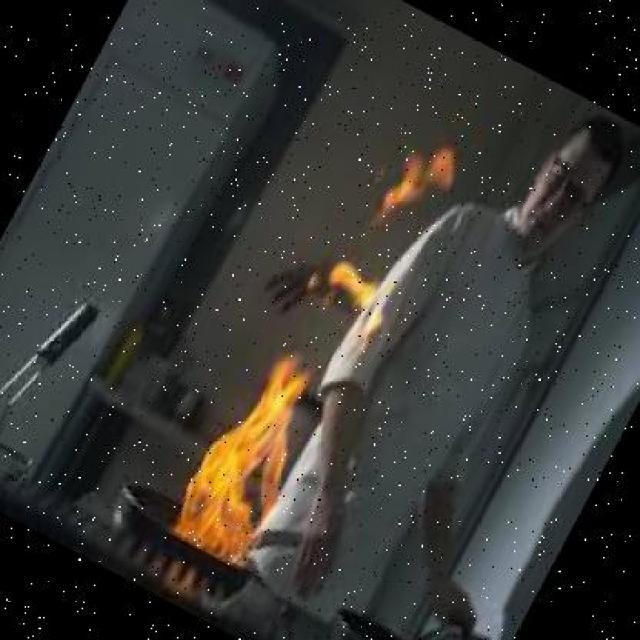fire: (160, 317, 365, 568), (308, 118, 484, 340)
